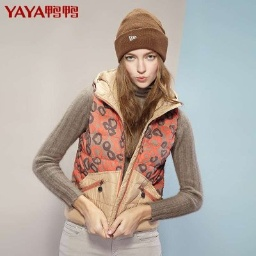face: (111, 40, 177, 123)
